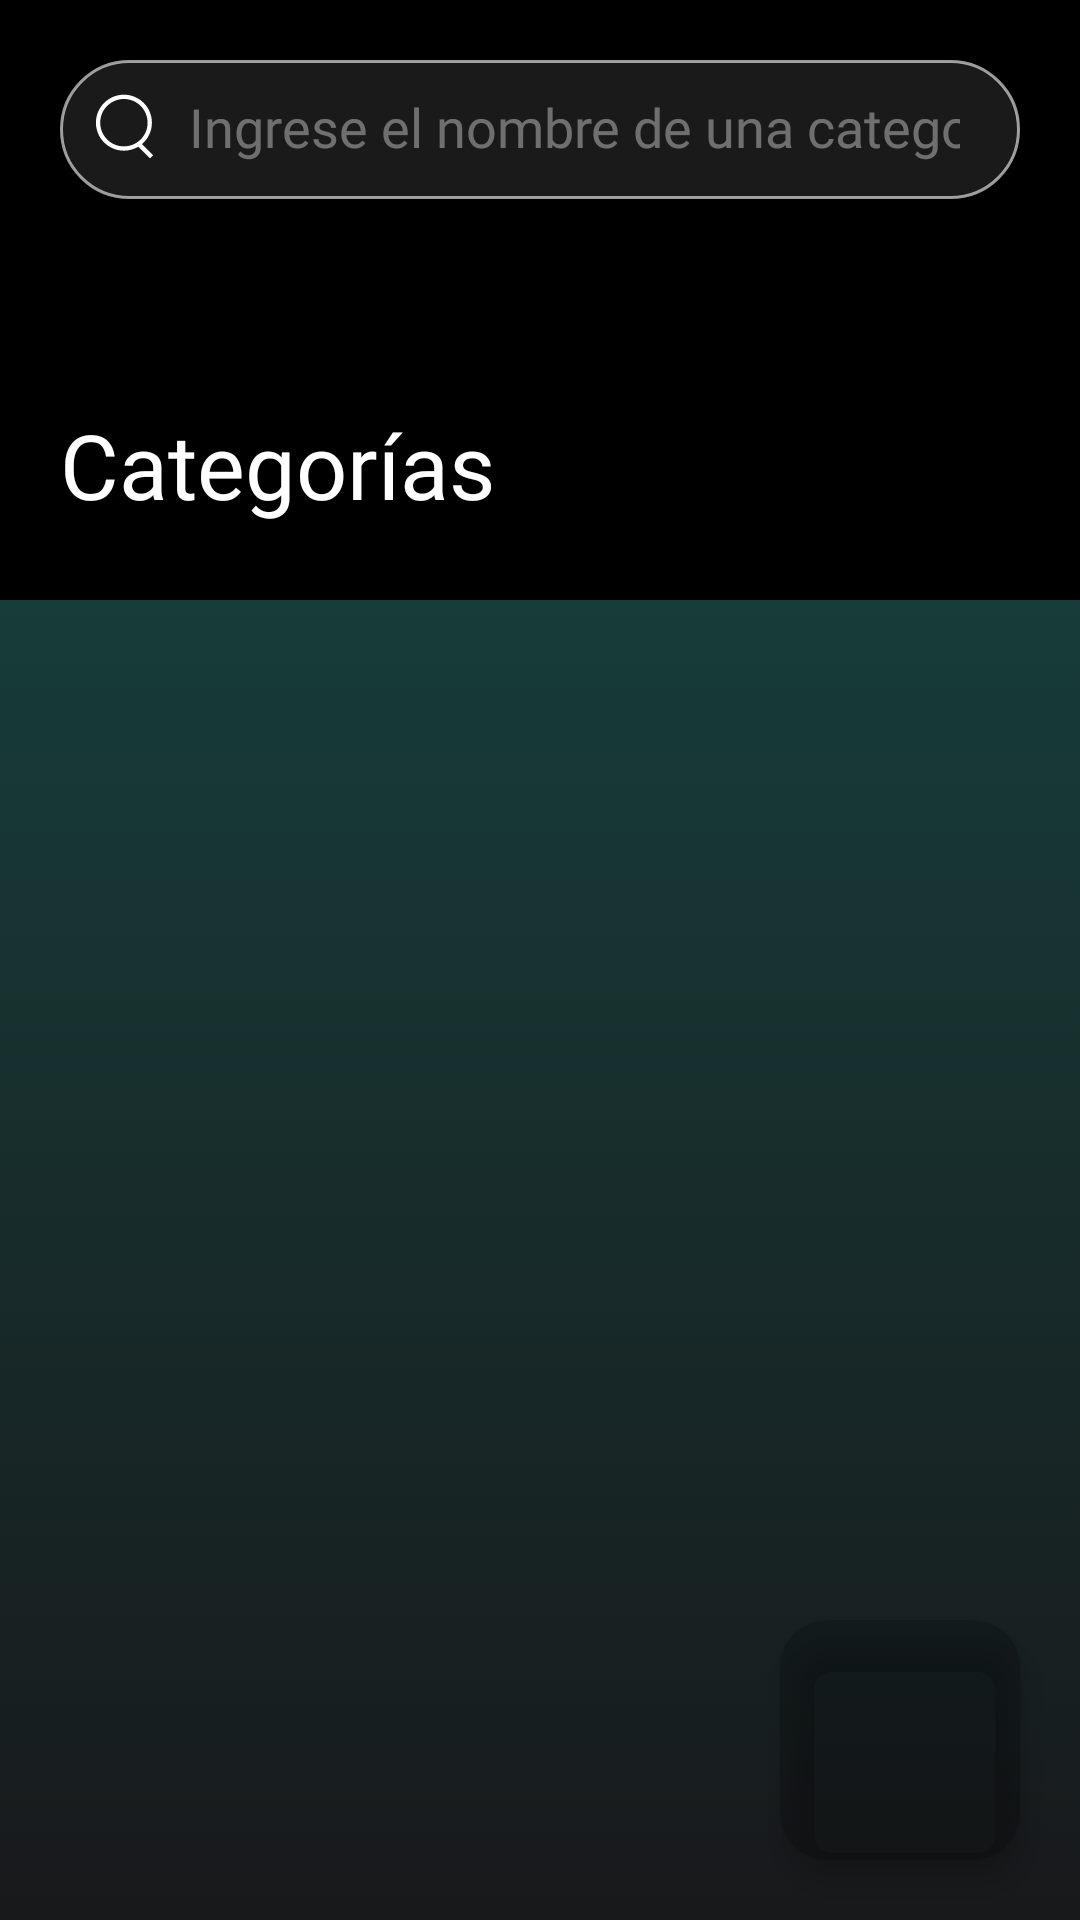

Where icons sit on this 1080px×1920px app screen, as {"x1": x1, "y1": y1, "x2": x2, "y2": y2}:
search: {"x1": 96, "y1": 94, "x2": 153, "y2": 158}
